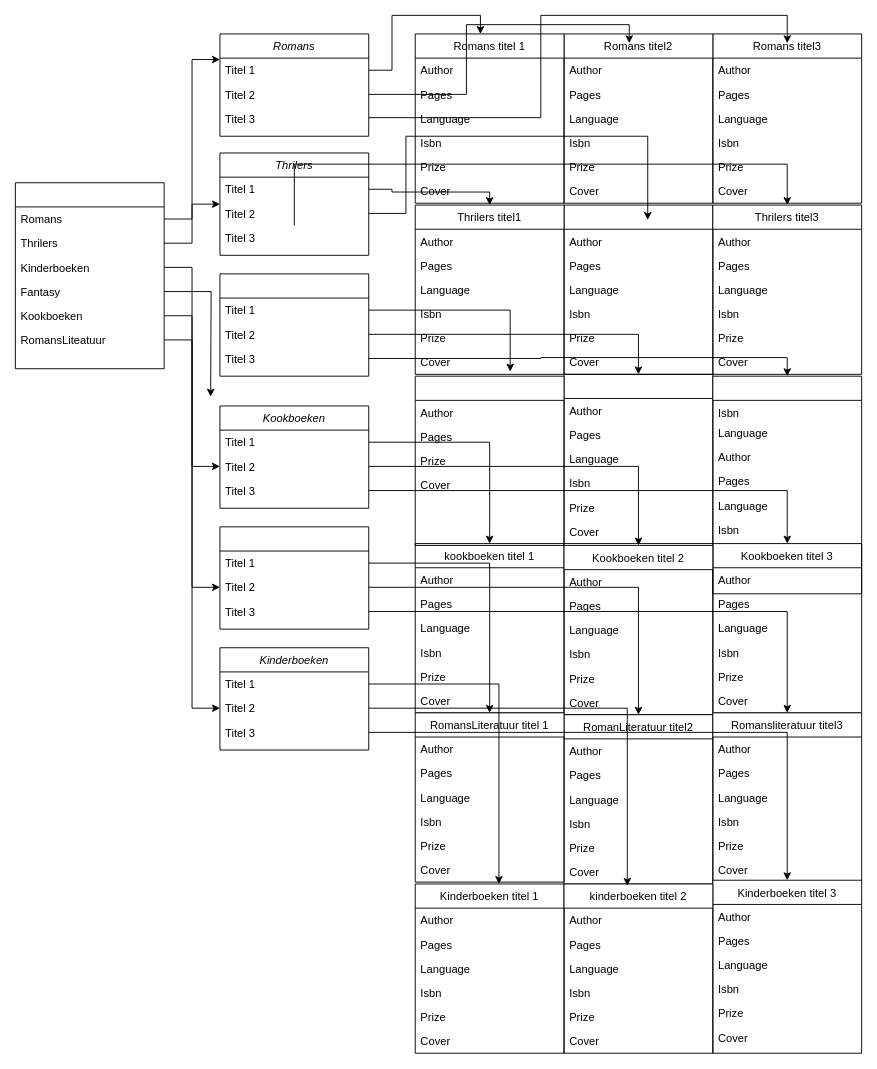
The diagram is 877 pixels wide and 1069 high, and some of its shapes have lost their labels. The shapes that lost their labels are listed below. From the top down, each one's box as (x1, y1, x2, y2) in pixels, then its label:
(14, 182, 164, 369): Boekenshop
(563, 204, 713, 374): Thrilers titel2
(219, 273, 369, 376): Fantas
(414, 375, 564, 545): fantasy titel 1
(563, 373, 713, 544): Fantasy titel 2
(712, 375, 862, 594): Fantasy titel 3
(219, 526, 369, 629): RomansLiteratuur
